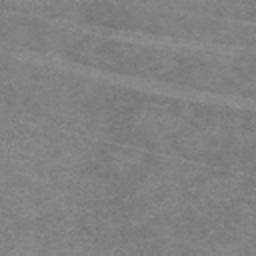Finishing roll printing: (10, 50, 256, 112), (59, 126, 255, 179), (41, 18, 245, 56)
